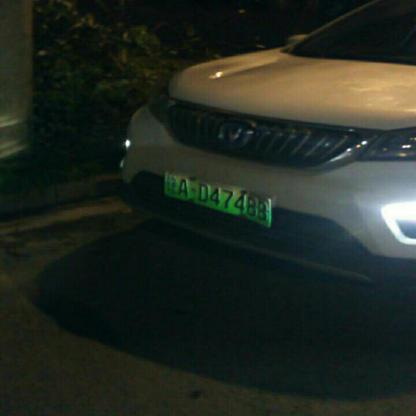lp: (163, 171, 270, 227)
